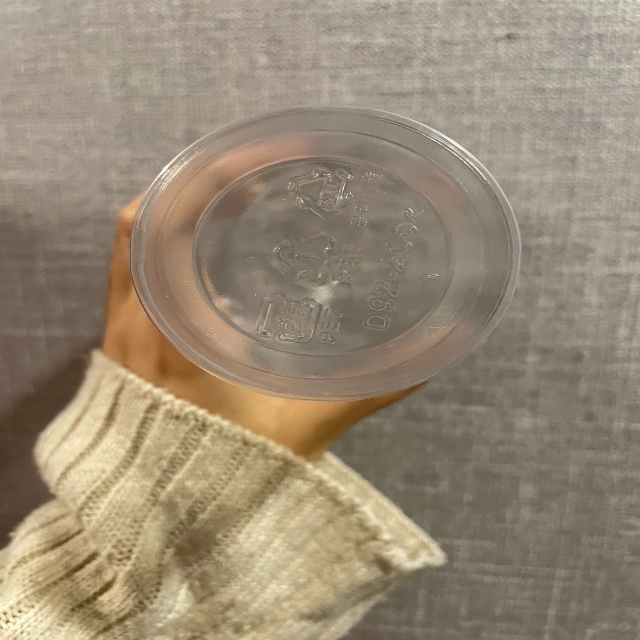pet: (285, 157, 384, 230), (272, 227, 366, 290), (254, 288, 349, 347)
